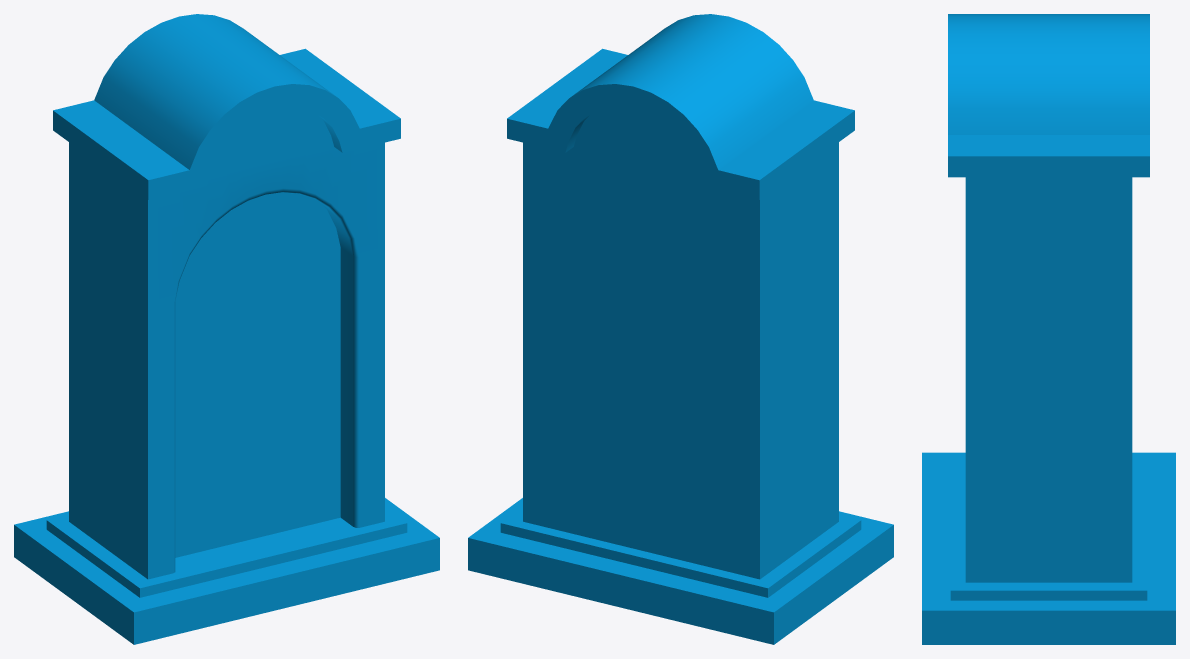
The model's file is graveyard_tomb_round.fbx.
3 renders of one model, left to right at view 1: azimuth 30°, elevation 25°; view 2: azimuth 150°, elevation 25°; view 3: azimuth 270°, elevation 25°, orthographic. The views are drawn at different scales.
Parts seen in each view (by area): view 1: tomb_round; view 2: tomb_round; view 3: tomb_round.
Part boxes in pixels (x1,y1,x2,y2): tomb_round: [14, 14, 439, 644]; tomb_round: [468, 14, 893, 644]; tomb_round: [922, 14, 1175, 644].
Bounding box in the file's own units: 43.64 × 69.82 × 29.65.
